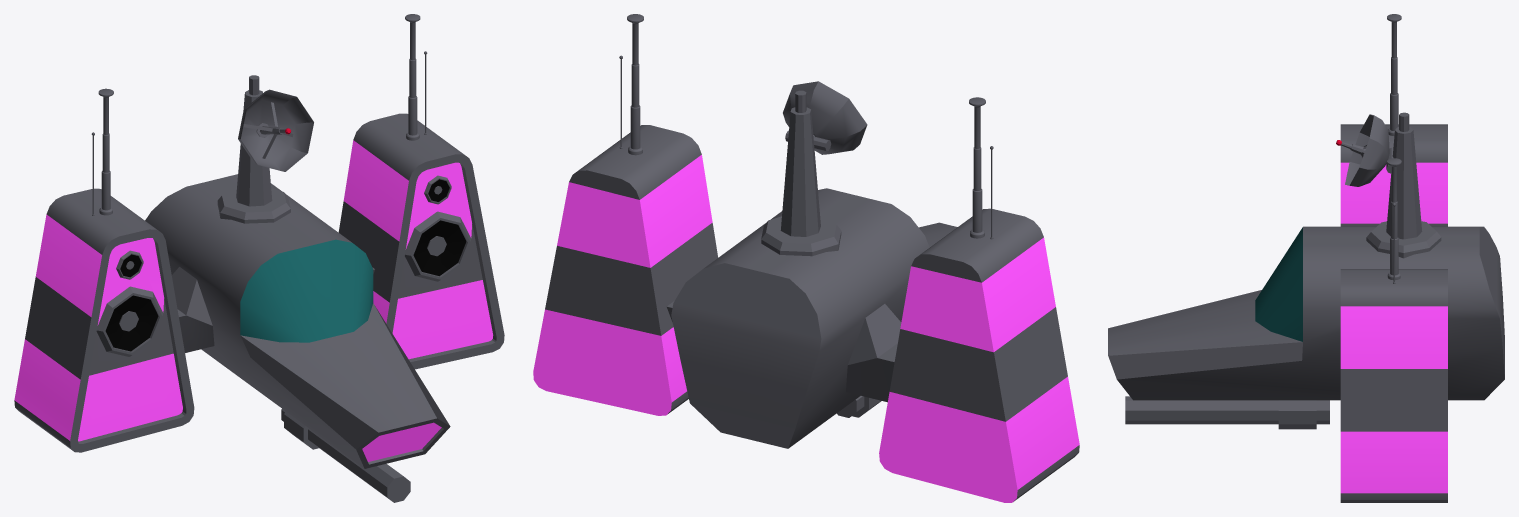
Rendered from DJShip.fbx.
The picture shows the model from 3 angles, left to right: view 1: azimuth 30°, elevation 25°; view 2: azimuth 150°, elevation 25°; view 3: azimuth 270°, elevation 25°; orthographic projection. The views are drawn at different scales.
Visible parts, largest first — view 1: Cube.004; view 2: Cube.004; view 3: Cube.004.
Part boxes in pixels (x1,y1,x2,y2): Cube.004: (14, 14, 504, 502); Cube.004: (533, 14, 1079, 502); Cube.004: (1108, 14, 1504, 502).
Bounding box in the file's own units: 87.25 × 67.08 × 71.56.
